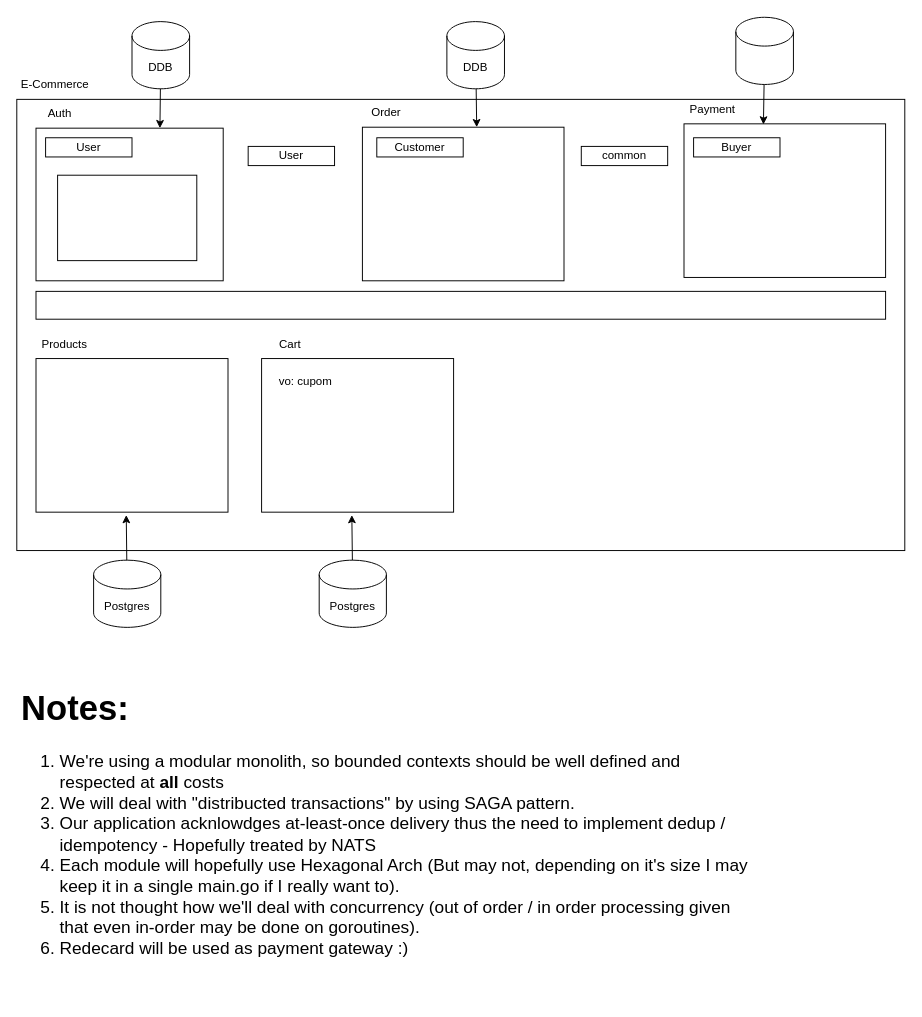
This 922x1017 diagram has some shape labels left out. The centre of each missing label's shape, as x and y in pixels:
"EVENT BUS - NATS.IO (Embedded)" goes at pixel 460 304.
"Keycloak" goes at pixel 127 217.
